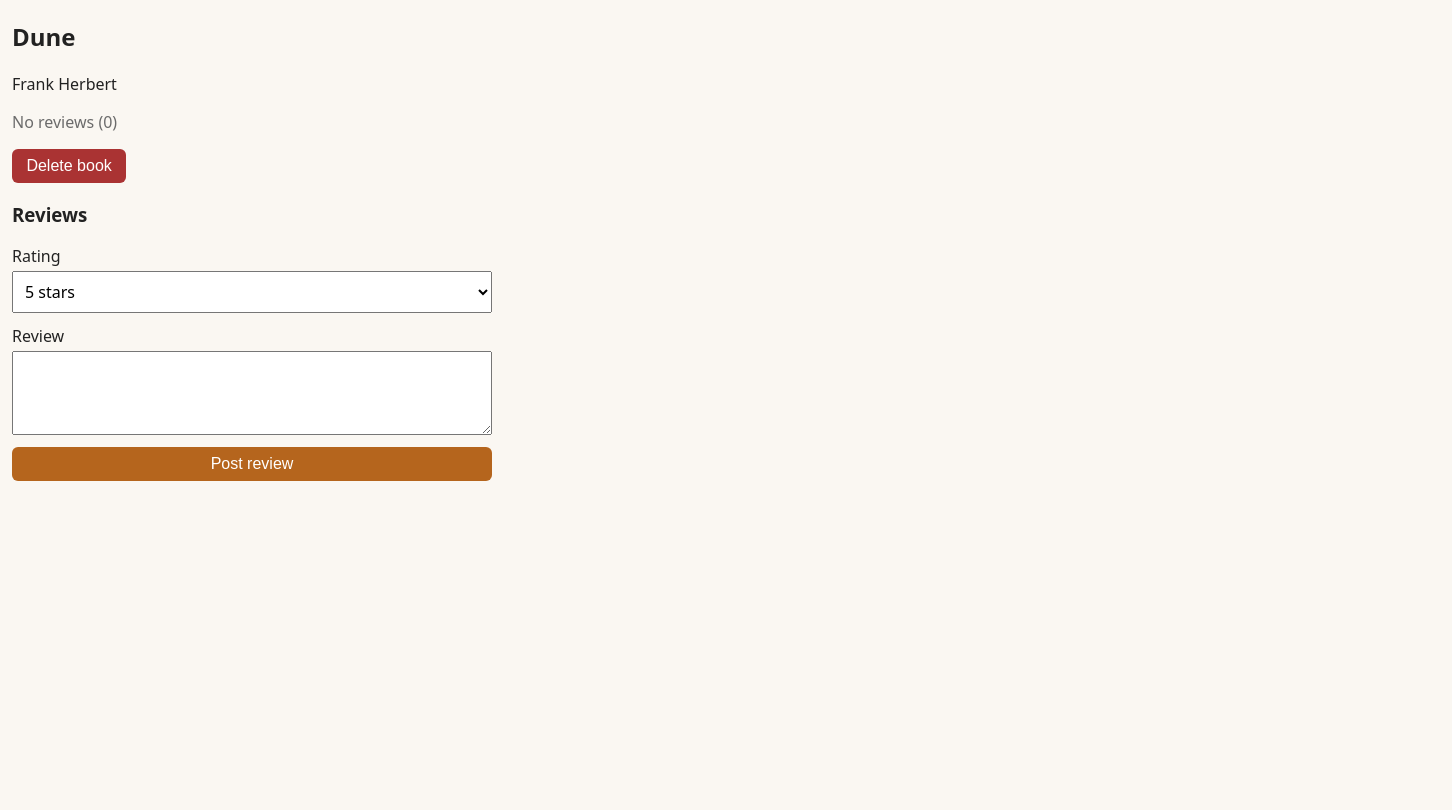
Test: book page › posts a review and reloads the book
Expected: the text "No reviews" is shown, [12,111,94,133]
Select "4 stars" in the dropdown labelled "Rating" at (252,292), box [12,271,492,313]
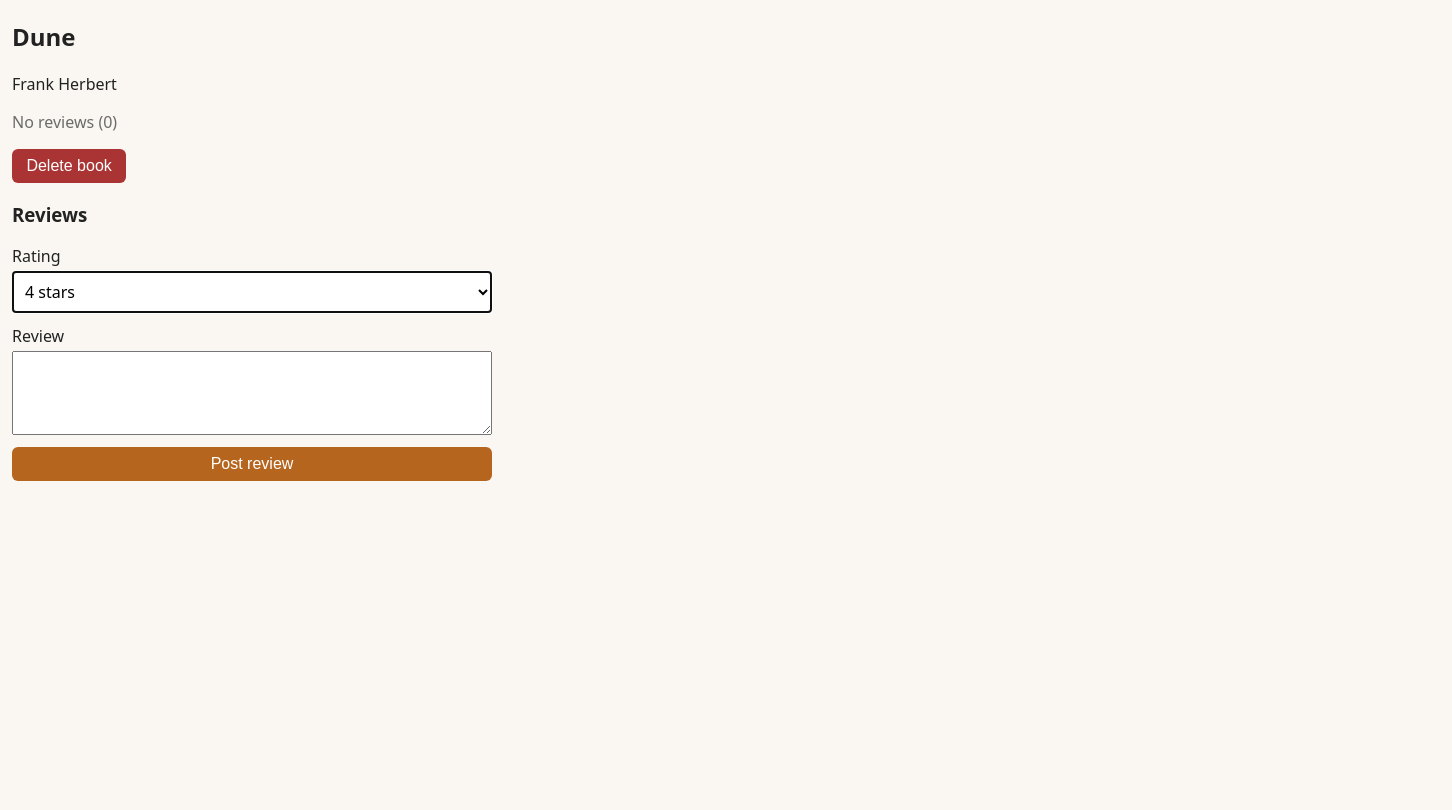
Type "Loved it" into the text box labelled "Review" at (252,393), box [12,351,492,435]
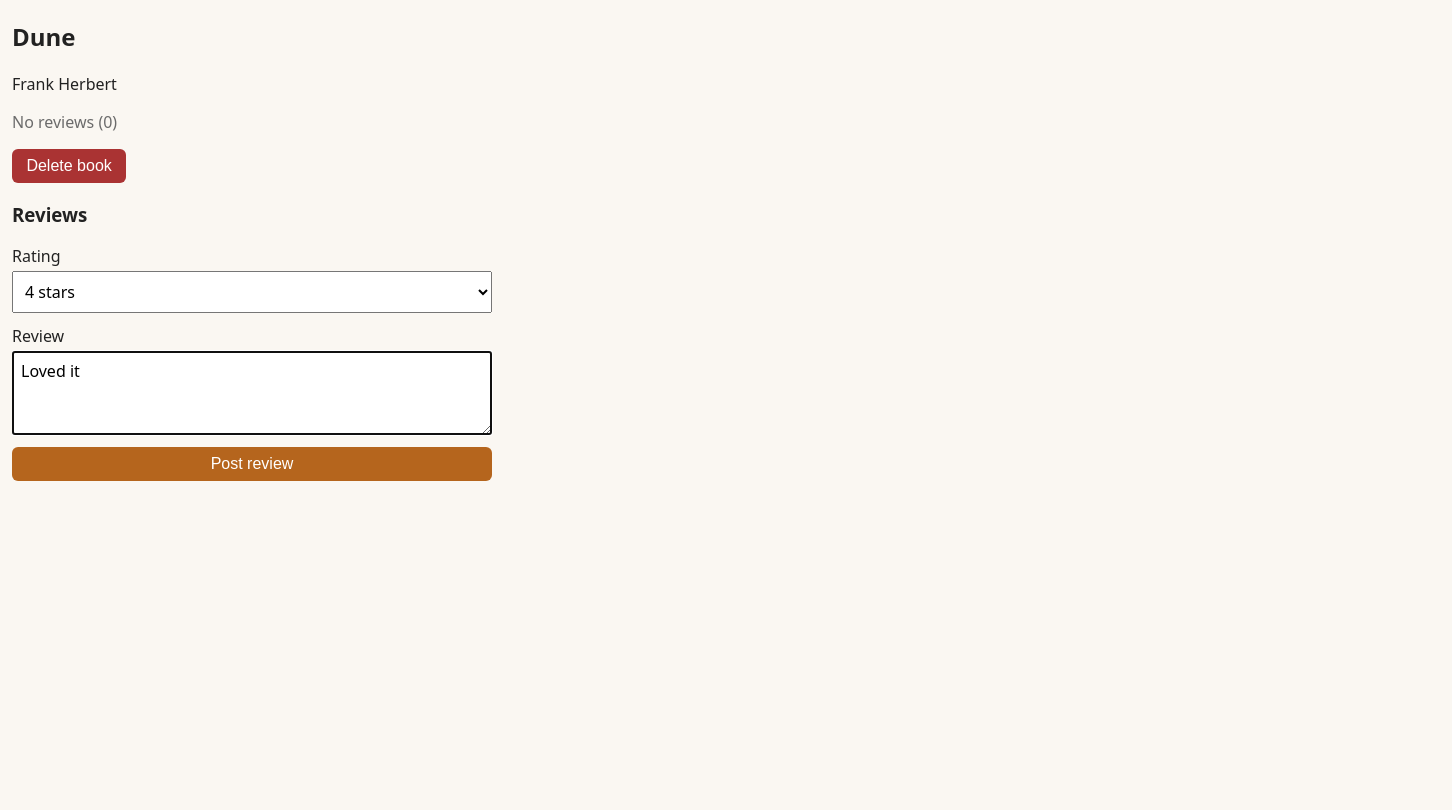
Click the button "Post review" at (252,464), box [12,447,492,481]
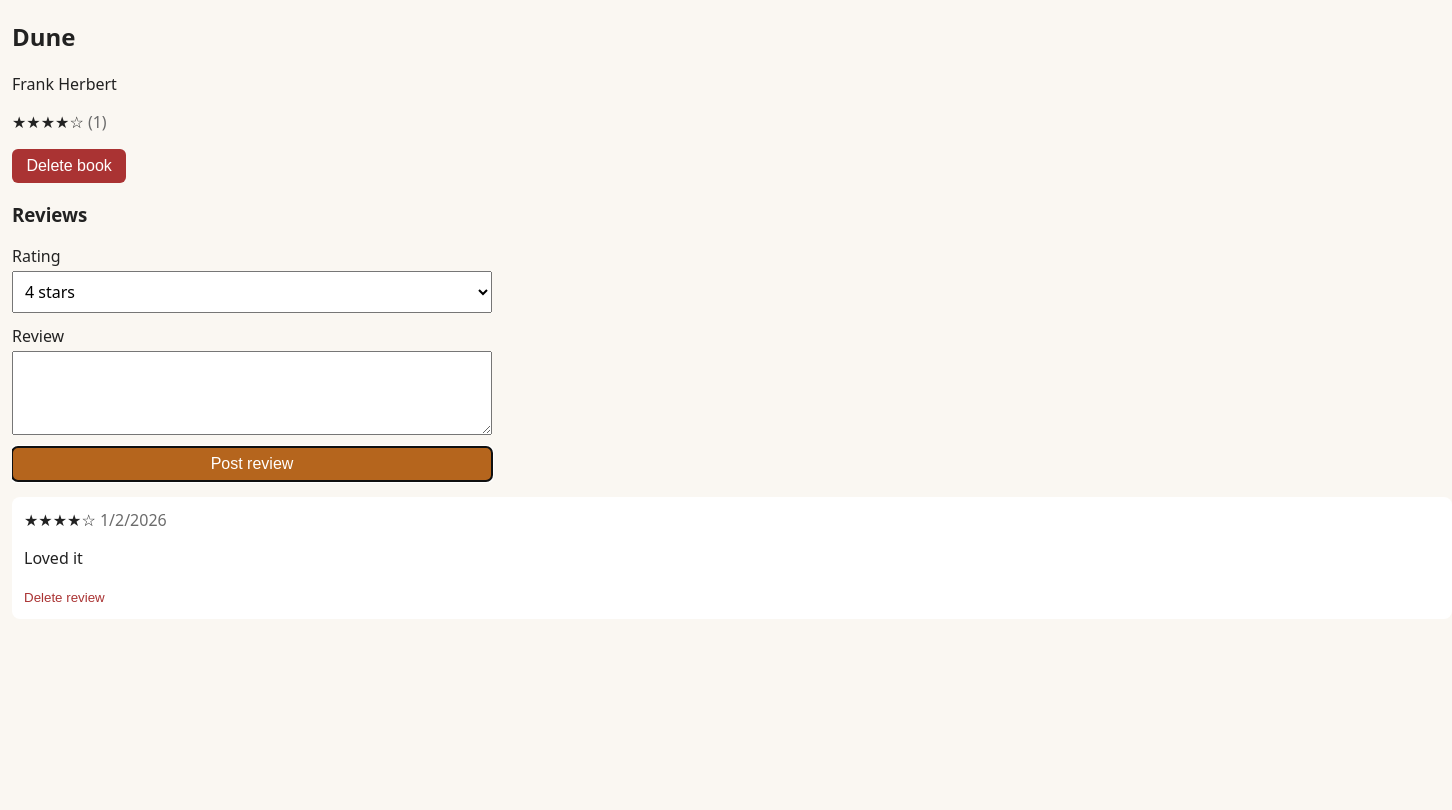
Now the text "Loved it" is shown, box [24,547,83,569]
